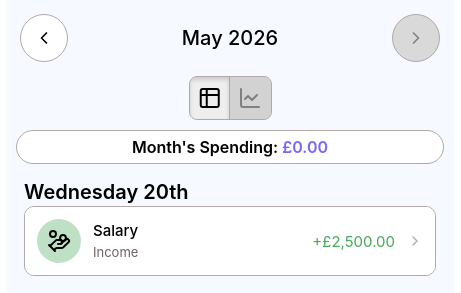
Test: TransactionsView month navigation › moves backward with previous and forward with next
Click the button named "Previous month" at (44, 38), box [20, 14, 68, 62]
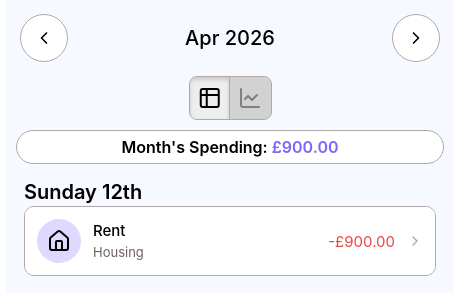
Result: the text "Apr 2026" is shown at [185, 28, 275, 48]
Click the button named "Previous month" at (44, 38), box [20, 14, 68, 62]
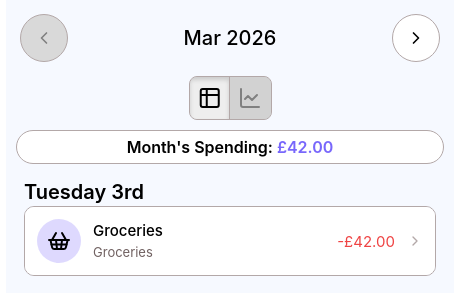
Result: the text "Mar 2026" is shown at [184, 28, 276, 48]
Click the button named "Next month" at (416, 38), box [392, 14, 440, 62]
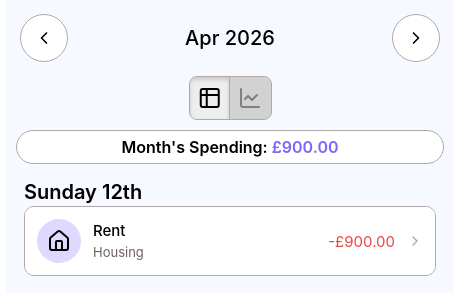
Result: the text "Apr 2026" is shown at [185, 28, 275, 48]
